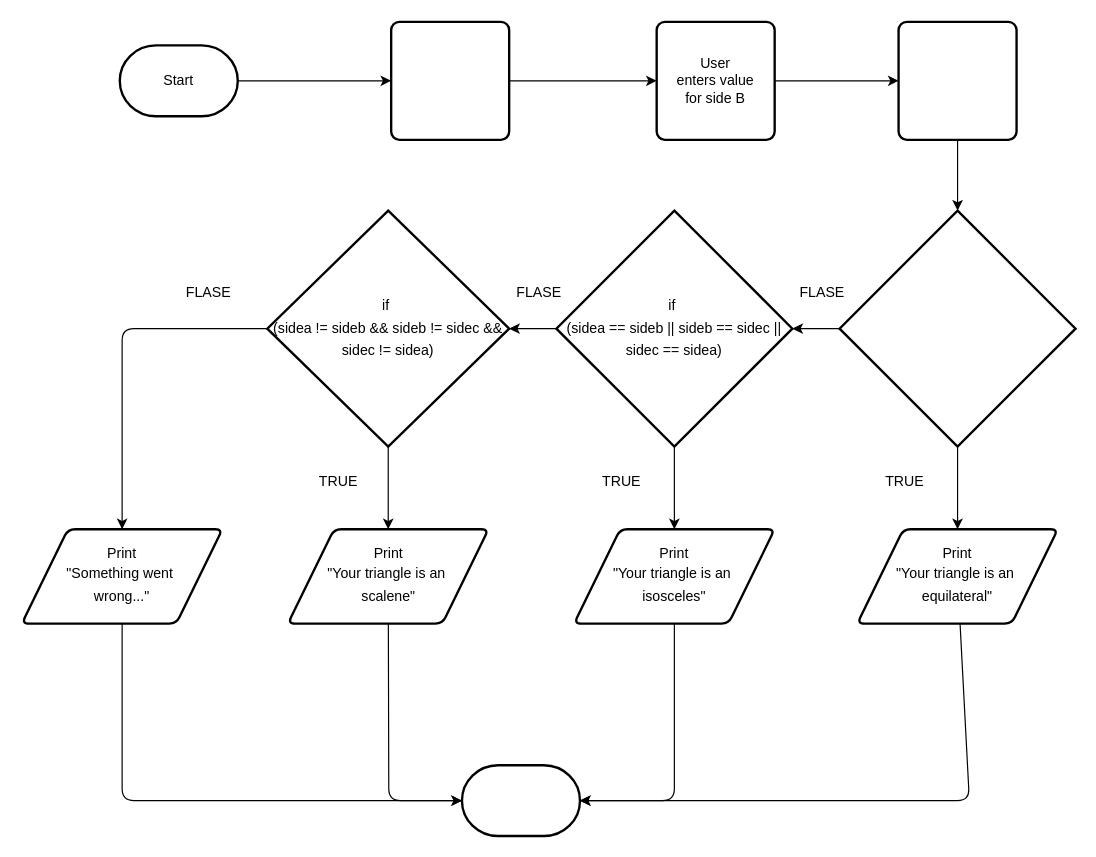
This 1096x857 diagram has some shape labels left out. Here are the shapes that lost their labels. From the top down, the box of each, then its label:
(389, 20, 510, 140): User enters value for side A
(897, 20, 1017, 140): User enters value for side C
(838, 209, 1076, 447): if (sidea == sideb && sideb == sidec && sidec == sidea)
(460, 763, 581, 837): Stop
